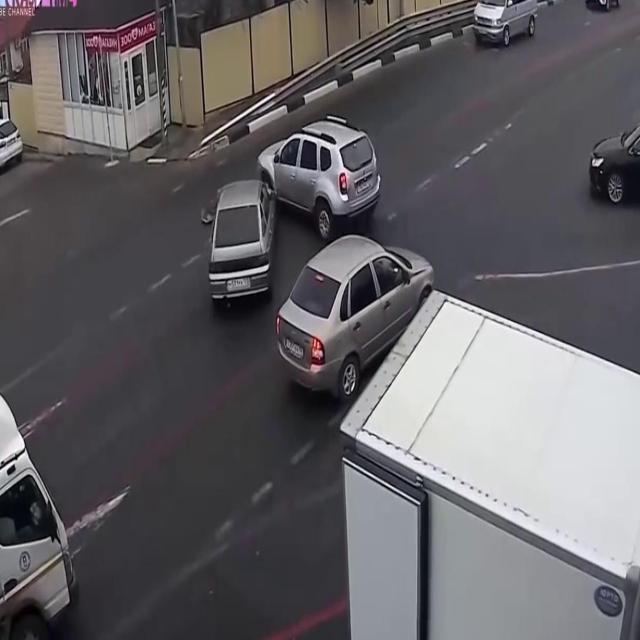accident: (189, 112, 391, 328)
